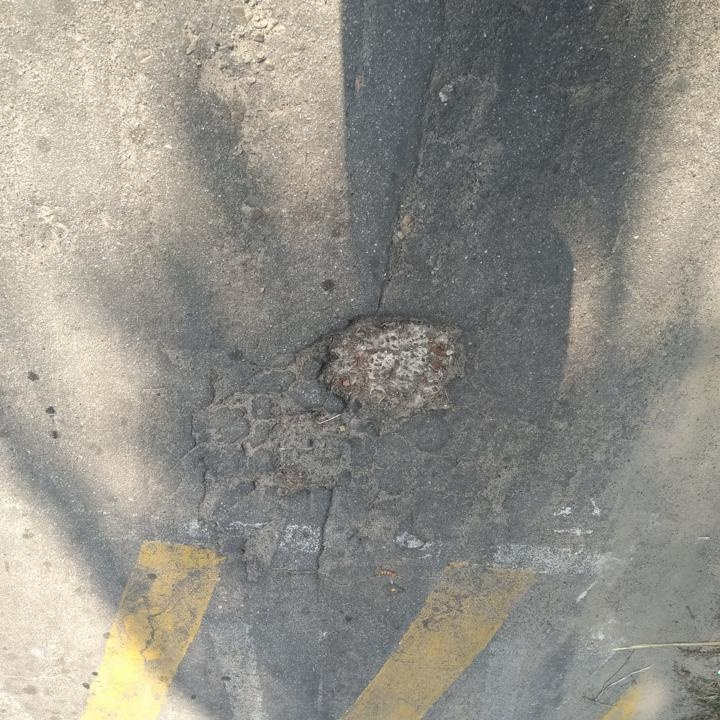pothole: (310, 308, 474, 425), (257, 409, 361, 499)
